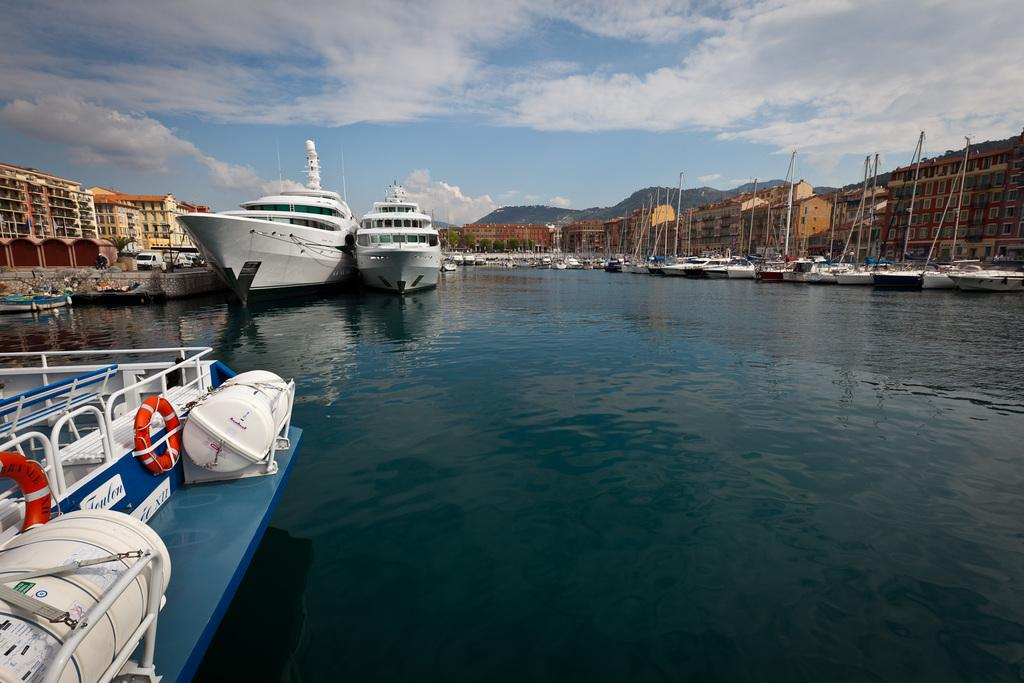PassengerShip: (181, 166, 379, 286), (352, 174, 448, 296)
